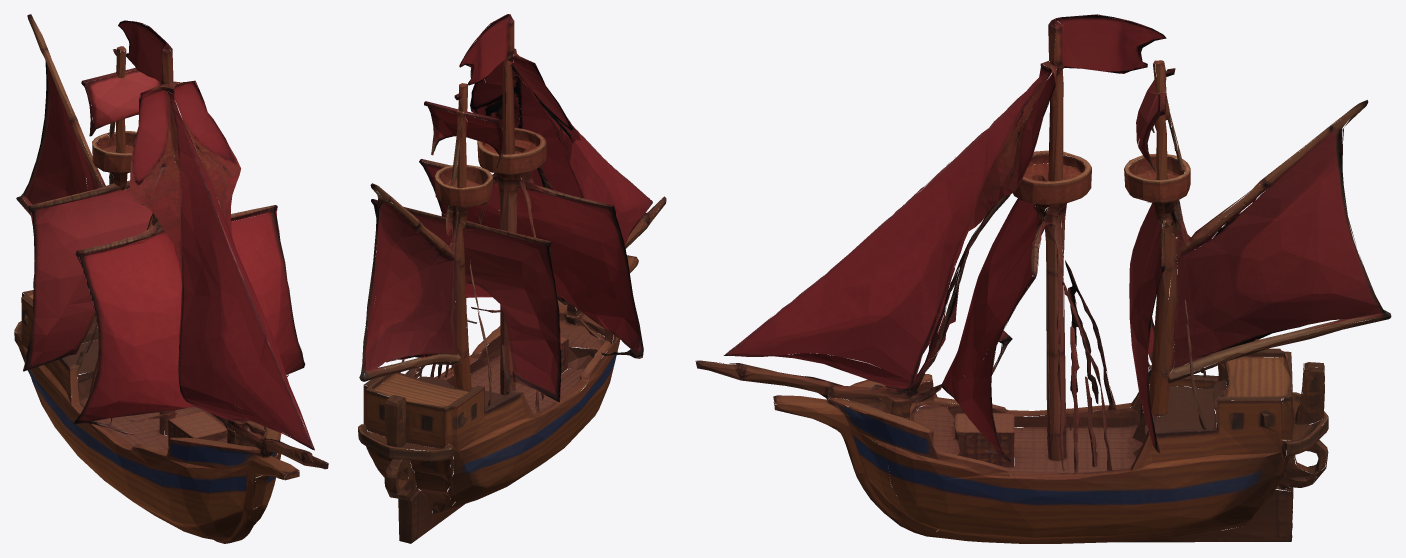
Rendered from mediumpirate.glb.
The picture shows the model from 3 angles, left to right: view 1: azimuth 30°, elevation 25°; view 2: azimuth 150°, elevation 25°; view 3: azimuth 270°, elevation 25°; orthographic projection. The views are drawn at different scales.
Visible parts, largest first — view 1: world; view 2: world; view 3: world.
Boxes of the visible parts, <box> form: world: <box>14,14,328,543</box>; world: <box>358,14,666,543</box>; world: <box>695,14,1391,543</box>.
Size of the model in its own units: 0.4327 by 0.8354 by 1.
1 material, 1 textured.
